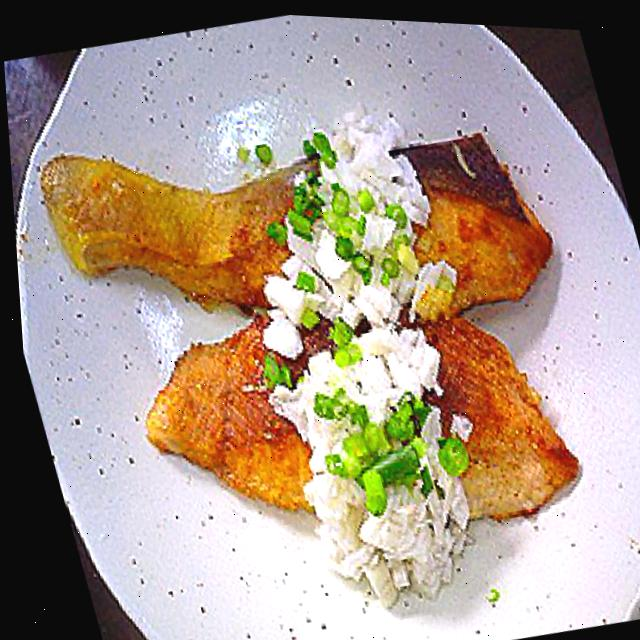熟制海鲜: (5, 20, 640, 614)
